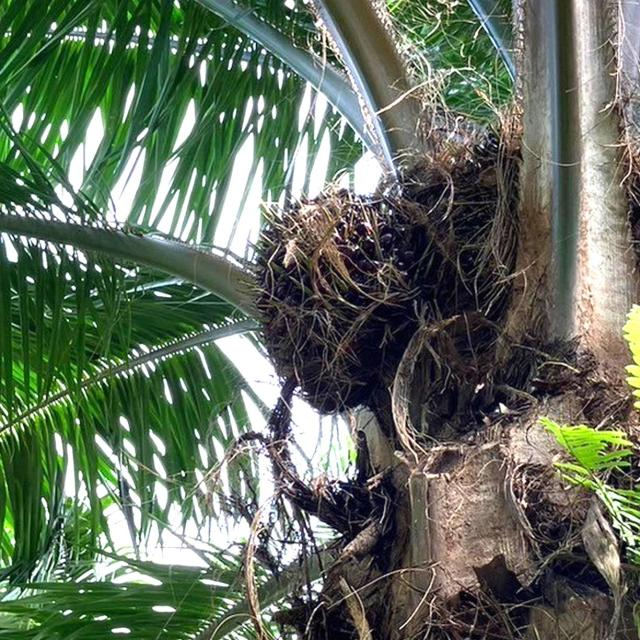ripe: (253, 188, 432, 414)
